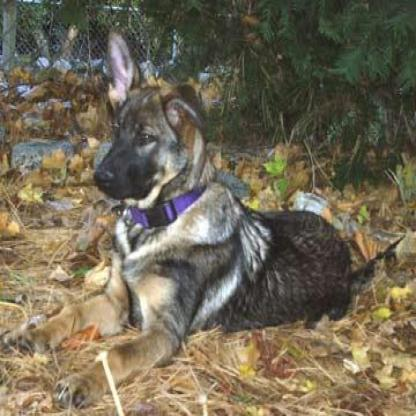German_shepherd: (0, 24, 408, 411)
